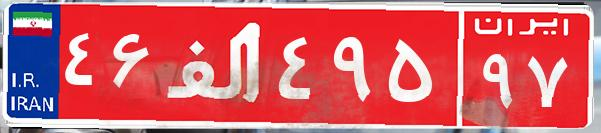4: (273, 28, 330, 110), (57, 26, 110, 107)
5: (385, 28, 445, 110)
6: (110, 28, 158, 105)
7: (525, 38, 570, 115)
9: (330, 28, 385, 110), (475, 38, 525, 113)
الف: (158, 15, 273, 115)
